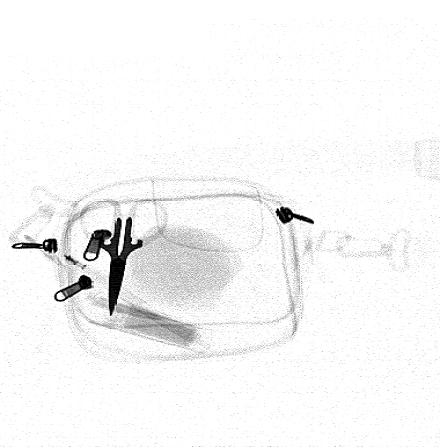Scissors: (75, 195, 172, 320)
